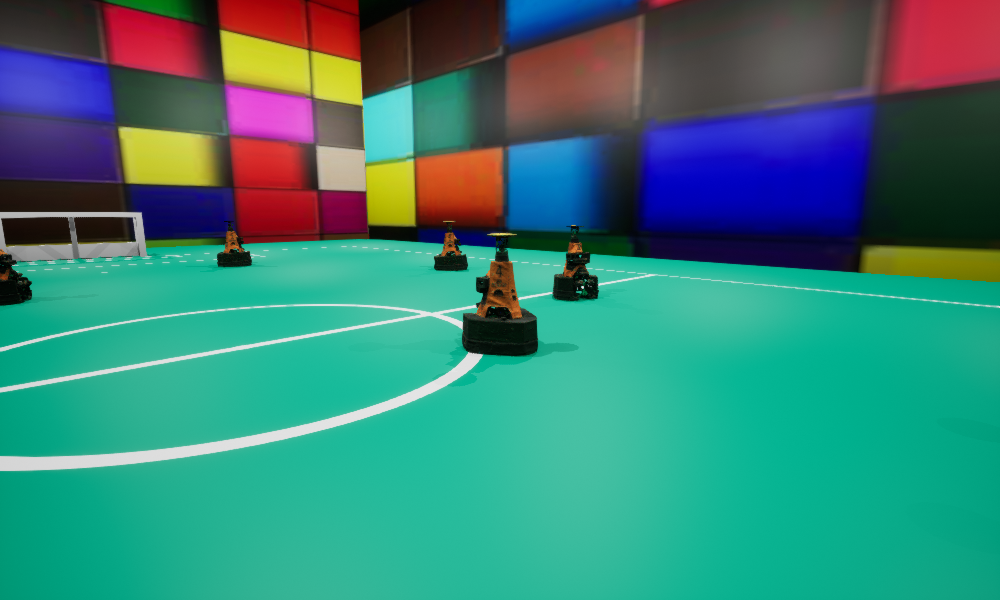o: (462, 233, 537, 355), (553, 225, 598, 300), (0, 249, 31, 305), (434, 221, 467, 270), (217, 221, 251, 266)
